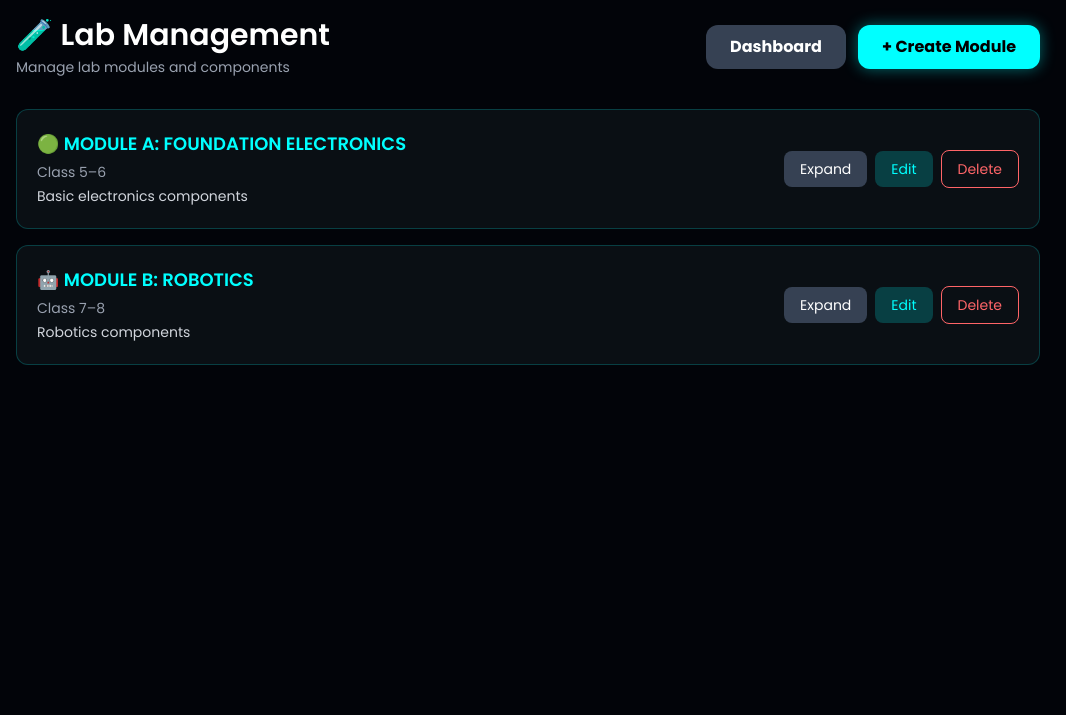
Test: AdminLabManager › should open create form when Create Module button is clicked
Expected: the heading "🟢 MODULE A: FOUNDATION ELECTRONICS" is shown, x1=37 y1=131 x2=406 y2=156
Click Create Module button
Click the button "+ Create Module": [949, 47] box x1=858 y1=25 x2=1040 y2=69
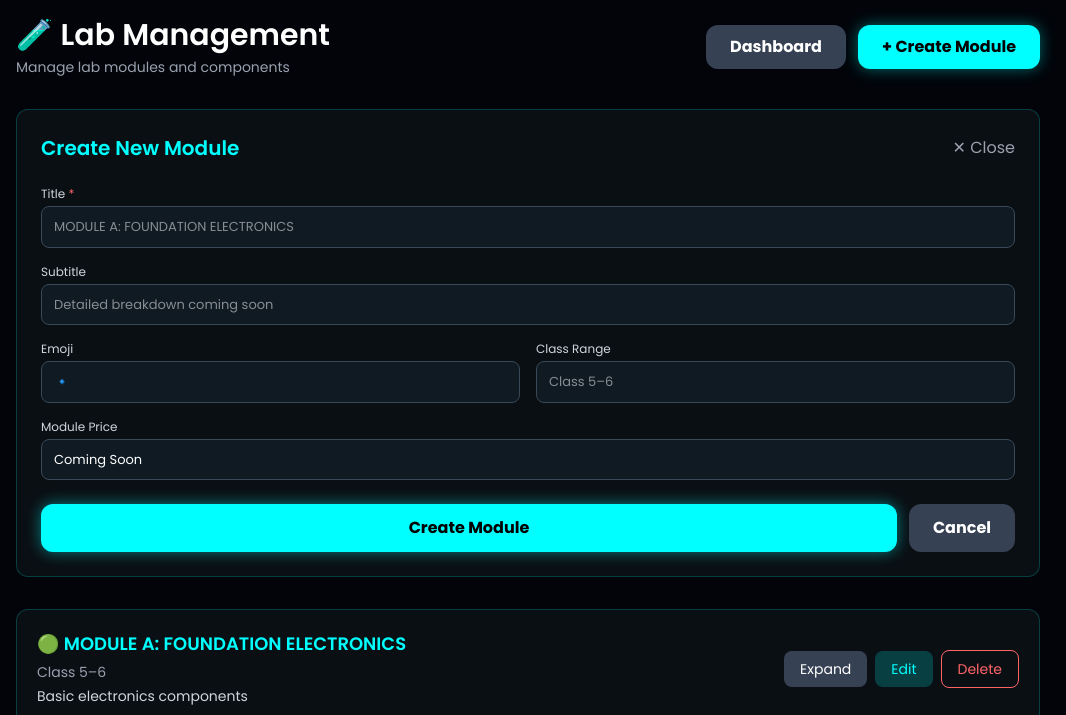
Expected: the heading "Create New Module" is shown, x1=41 y1=134 x2=239 y2=162
Expected: the field with placeholder "MODULE A: FOUNDATION ELECTRONICS" is shown, x1=41 y1=206 x2=1015 y2=248
